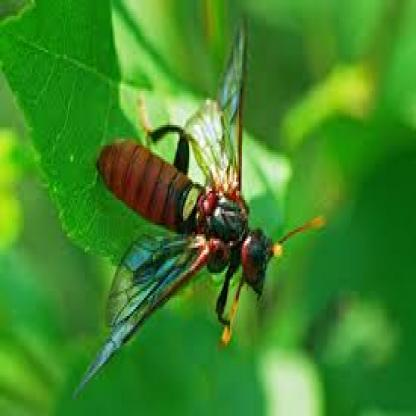sawfly: (80, 13, 322, 398)
